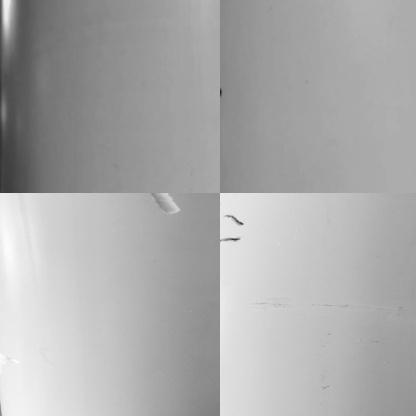fengxi: (224, 210, 246, 229), (220, 234, 244, 242)
sunshang: (148, 189, 183, 219)
